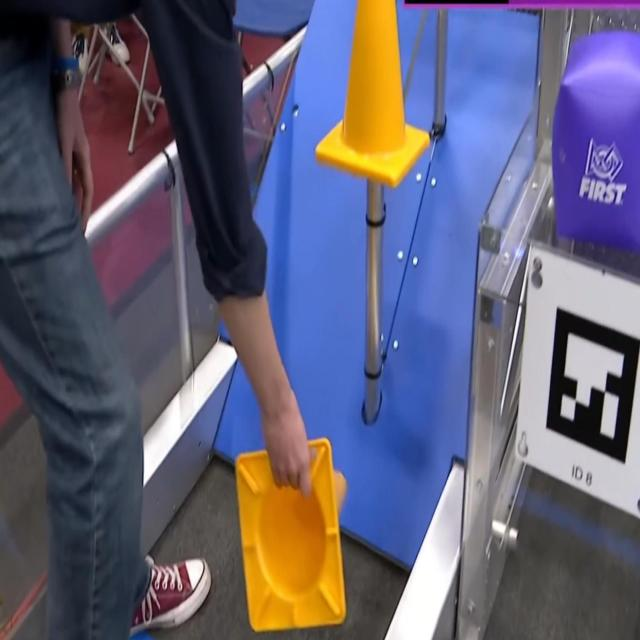frc_cone: (317, 0, 429, 190), (239, 437, 345, 629)
frc_cube: (553, 27, 640, 256)
